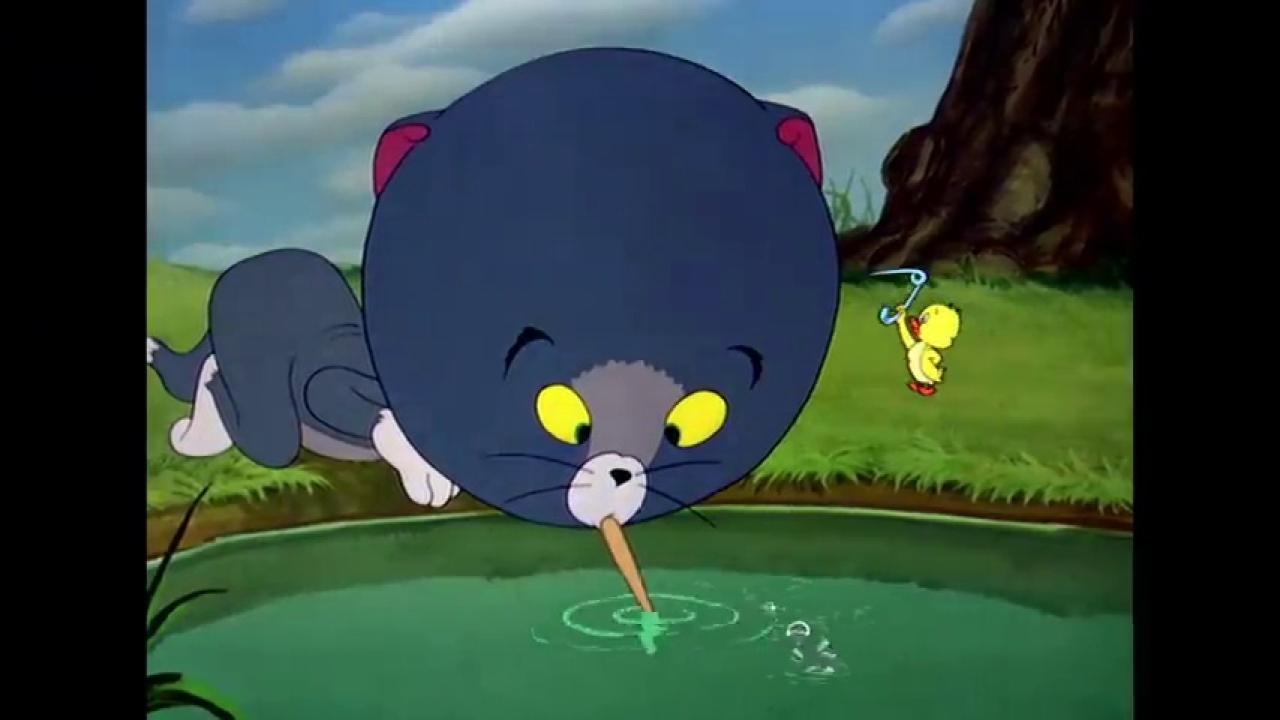Tom: (147, 44, 841, 532)
